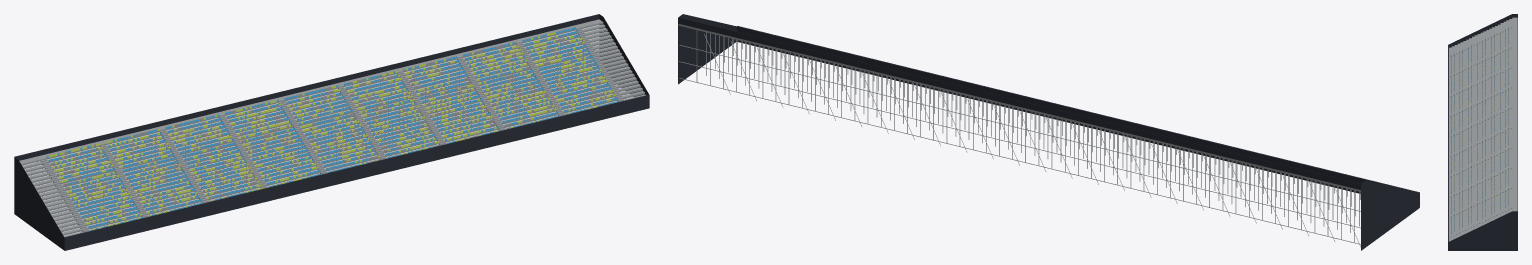
The model's file is sgp_stand_superpit_c.glb.
3 views of the same model, side by side, from view 1: azimuth 30°, elevation 25°; view 2: azimuth 150°, elevation 25°; view 3: azimuth 270°, elevation 25° (orthographic). The views are drawn at different scales.
Visible parts, largest first — view 1: singapore-superpit-grandstand; view 2: singapore-superpit-grandstand; view 3: singapore-superpit-grandstand.
Boxes of the visible parts, bbox=[...] form: singapore-superpit-grandstand: bbox=[14, 14, 649, 250]; singapore-superpit-grandstand: bbox=[678, 14, 1419, 250]; singapore-superpit-grandstand: bbox=[1448, 14, 1517, 250].
Bounding box in the file's own units: 130 × 12.14 × 19.45.
